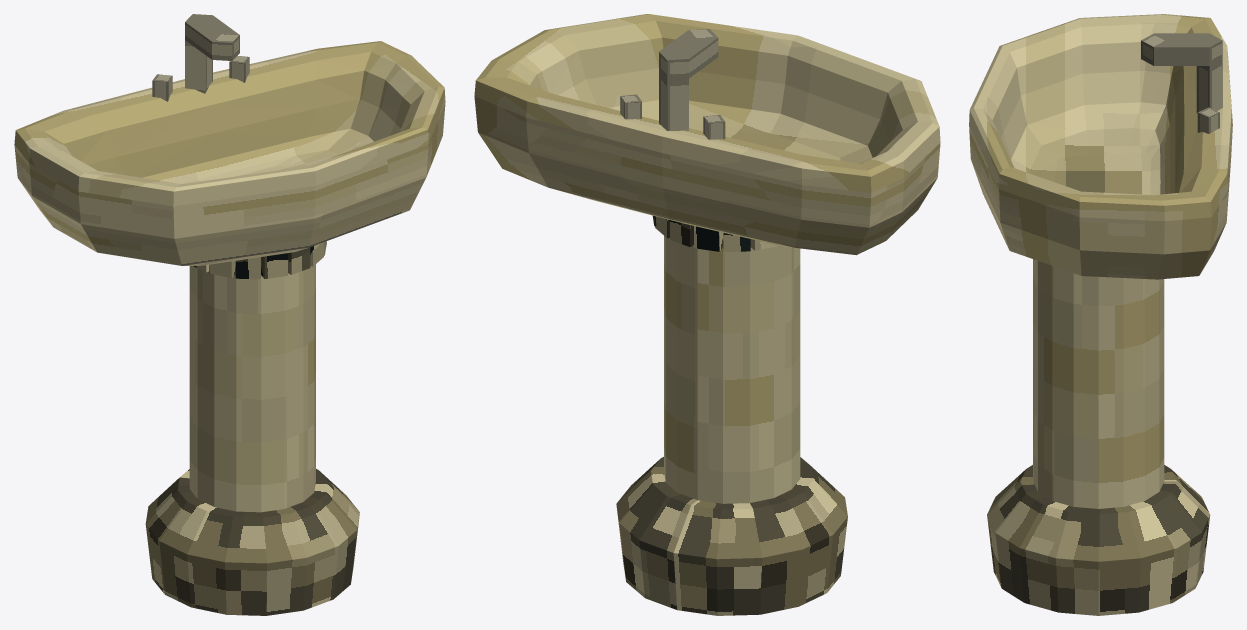
Rendered from Pia.fbx.
The picture shows the model from 3 angles, left to right: view 1: azimuth 30°, elevation 25°; view 2: azimuth 150°, elevation 25°; view 3: azimuth 270°, elevation 25°; orthographic projection. The views are drawn at different scales.
Visible parts, largest first — view 1: Pia; view 2: Pia; view 3: Pia.
Part boxes in pixels (x1,y1,x2,y2): Pia: (14, 14, 445, 615); Pia: (474, 14, 940, 615); Pia: (969, 14, 1232, 615).
Size of the model in its own units: 85.29 by 110 by 49.35.
1 material, 1 textured.
